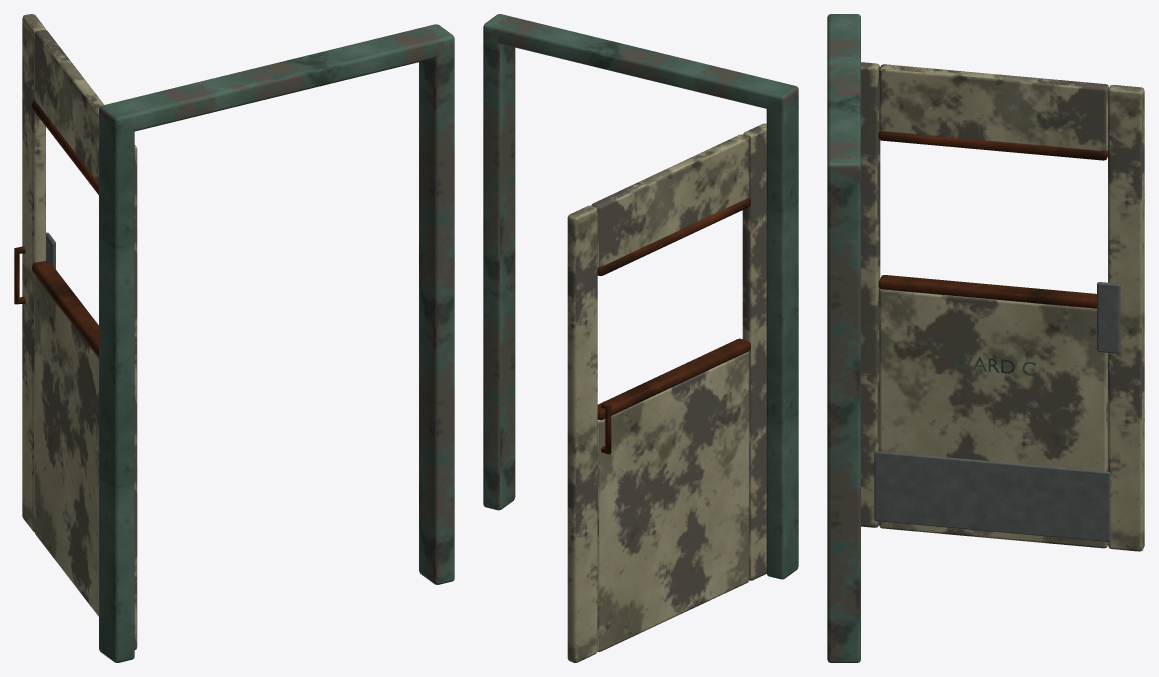
File: hospital_door.glb
3 views of the same model, side by side, from view 1: azimuth 30°, elevation 25°; view 2: azimuth 150°, elevation 25°; view 3: azimuth 270°, elevation 25° (orthographic). The views are drawn at different scales.
Visible parts, largest first — view 1: Door frame jamb, Door frame jamb.001, Hospital door panel, Door frame lintel, Door window side.001, Hospital door panel.001, Missing door window bottom frame, Door window side, Missing door window upper frame; view 2: Hospital door panel, Door frame jamb, Door frame jamb.001, Door window side.001, Hospital door panel.001, Door frame lintel, Door window side, Missing door window bottom frame, Missing door window upper frame; view 3: Hospital door panel, Door kickplate, Door frame jamb.001, Door window side.001, Hospital door panel.001, Door window side, Door frame lintel, Missing door window bottom frame, Missing door window upper frame, Door push plate, Door warning.
Part boxes in pixels (x1=…): Door frame jamb: x1=99, y1=113, x2=134, y2=662; Door frame jamb.001: x1=419, y1=43, x2=454, y2=584; Hospital door panel: x1=34, y1=275, x2=98, y2=616; Door frame lintel: x1=99, y1=24, x2=454, y2=133; Door window side.001: x1=22, y1=14, x2=45, y2=531; Hospital door panel.001: x1=34, y1=30, x2=103, y2=182; Missing door window bottom frame: x1=32, y1=261, x2=98, y2=357; Door window side: x1=134, y1=144, x2=137, y2=649; Missing door window upper frame: x1=32, y1=100, x2=98, y2=194; Hospital door panel: x1=597, y1=351, x2=749, y2=651; Door frame jamb: x1=766, y1=92, x2=798, y2=579; Door frame jamb.001: x1=483, y1=30, x2=515, y2=510; Door window side.001: x1=567, y1=205, x2=597, y2=662; Hospital door panel.001: x1=591, y1=134, x2=749, y2=267; Door frame lintel: x1=483, y1=14, x2=798, y2=109; Door window side: x1=742, y1=123, x2=766, y2=580; Missing door window bottom frame: x1=597, y1=338, x2=750, y2=420; Missing door window upper frame: x1=597, y1=198, x2=750, y2=275; Hospital door panel: x1=879, y1=289, x2=1107, y2=548; Door kickplate: x1=874, y1=451, x2=1110, y2=541; Door frame jamb.001: x1=827, y1=170, x2=860, y2=662; Door window side.001: x1=1108, y1=85, x2=1144, y2=551; Hospital door panel.001: x1=879, y1=64, x2=1108, y2=151; Door window side: x1=861, y1=62, x2=880, y2=527; Door frame lintel: x1=827, y1=14, x2=860, y2=177; Missing door window bottom frame: x1=878, y1=275, x2=1096, y2=308; Missing door window upper frame: x1=878, y1=131, x2=1107, y2=160; Door push plate: x1=1097, y1=282, x2=1120, y2=353; Door warning: x1=950, y1=355, x2=1035, y2=375.
Size of the model in its own units: 1.49 by 2.28 by 1.31.
Materials: 4 (4 with a texture image).
